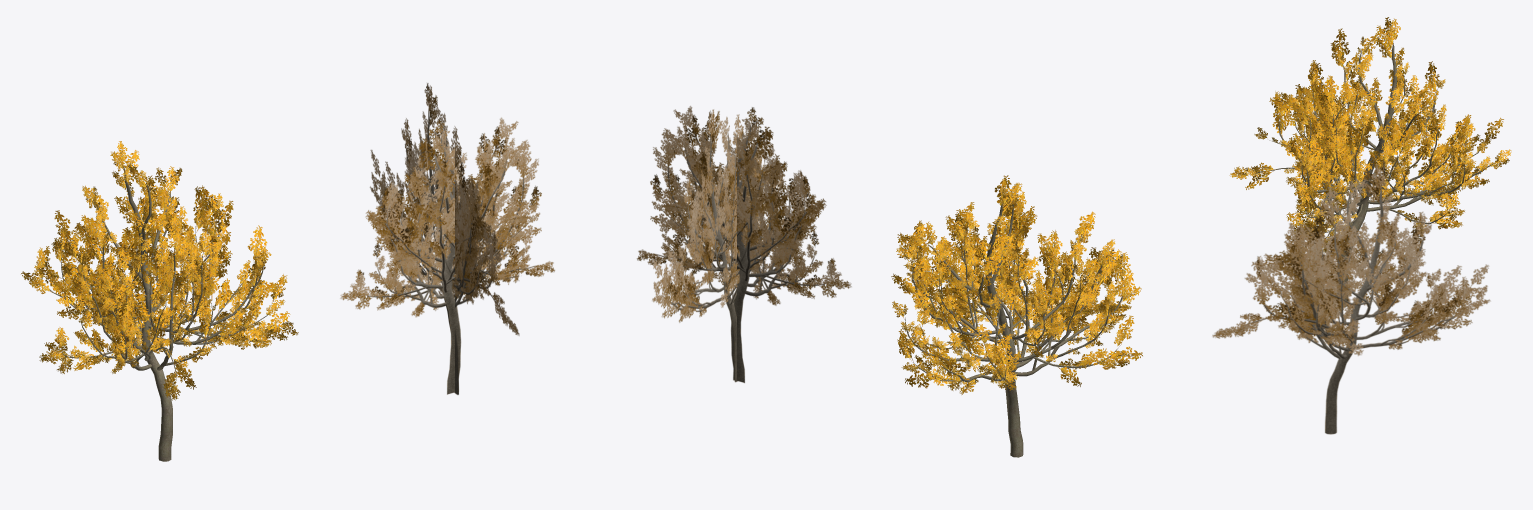
Rendered from tree3.glb.
The picture shows the model from 3 angles, left to right: view 1: azimuth 30°, elevation 25°; view 2: azimuth 150°, elevation 25°; view 3: azimuth 270°, elevation 25°; orthographic projection. The views are drawn at different scales.
Visible parts, largest first — view 1: Leaves_LOD0.002, Empty.005, Branches_LOD0.002; view 2: Leaves_LOD0.002, Empty.005, Branches_LOD0.002; view 3: Empty.005, Leaves_LOD0.002, Branches_LOD0.002.
Boxes of the visible parts, x1,y1,x2,y2 form: Leaves_LOD0.002: (21, 141, 298, 400); Empty.005: (340, 83, 554, 394); Branches_LOD0.002: (42, 168, 273, 461); Leaves_LOD0.002: (891, 175, 1142, 394); Empty.005: (637, 106, 851, 382); Branches_LOD0.002: (905, 203, 1124, 457); Empty.005: (1212, 164, 1490, 434); Leaves_LOD0.002: (1229, 17, 1511, 252); Branches_LOD0.002: (1253, 43, 1494, 306).
Size of the model in its own units: 58.18 by 35.68 by 34.14.
Materials: 3 (3 with a texture image).
